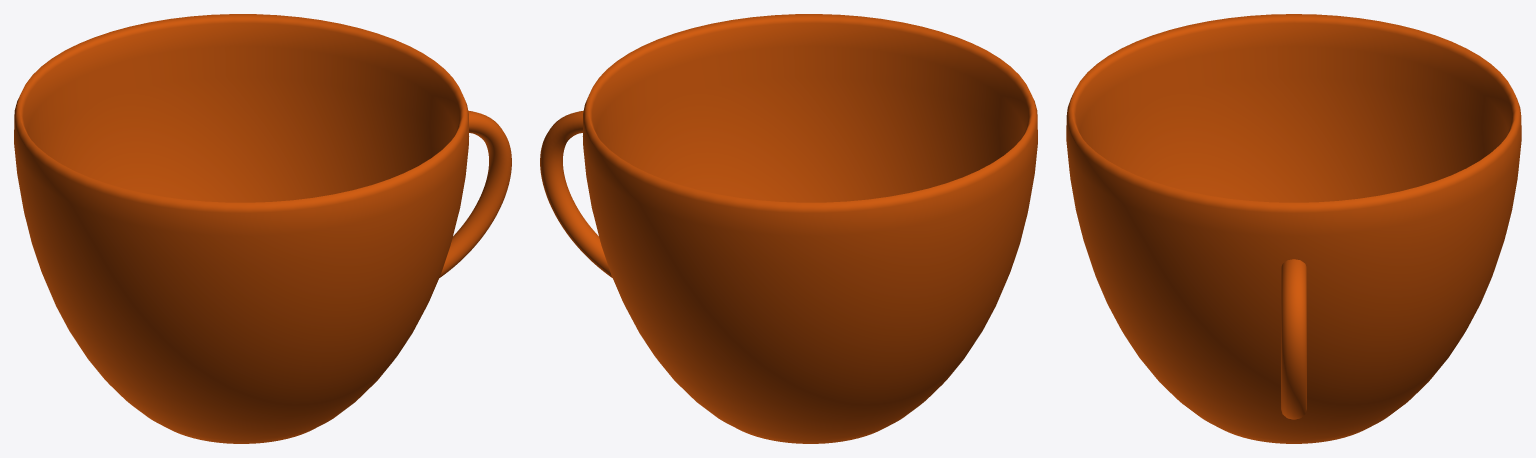
File: taza de te.obj
3 renders of one model, left to right at view 1: azimuth 30°, elevation 25°; view 2: azimuth 150°, elevation 25°; view 3: azimuth 270°, elevation 25°, orthographic.
Parts seen in each view (by area): view 1: CupBase; view 2: CupBase; view 3: CupBase.
Boxes of the visible parts, x1,y1,x2,y2 form: CupBase: (14,14,511,443); CupBase: (540,14,1037,443); CupBase: (1066,14,1521,443).
Bounding box in the file's own units: 0.1272 × 0.0788 × 0.1078.
